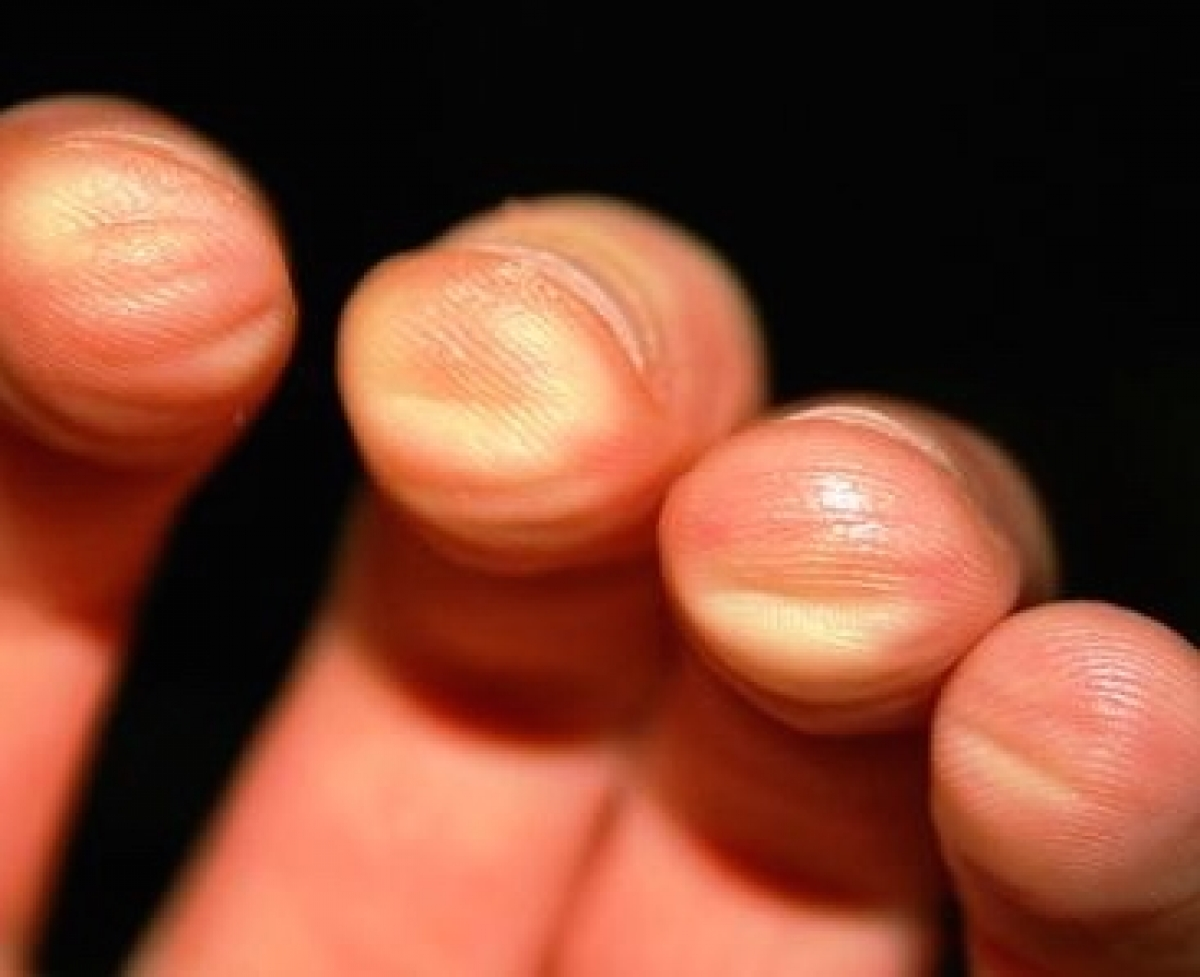finger: (119, 175, 762, 973), (585, 407, 1038, 974), (1, 66, 335, 710), (946, 574, 1200, 962)
